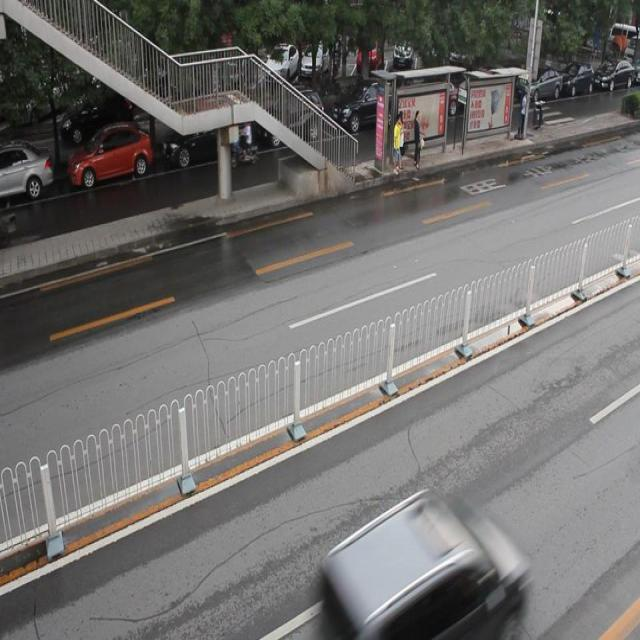car: (68, 123, 154, 188), (162, 110, 246, 169), (258, 88, 326, 150), (332, 76, 399, 134), (1, 143, 54, 202)
truck: (311, 486, 525, 640)
